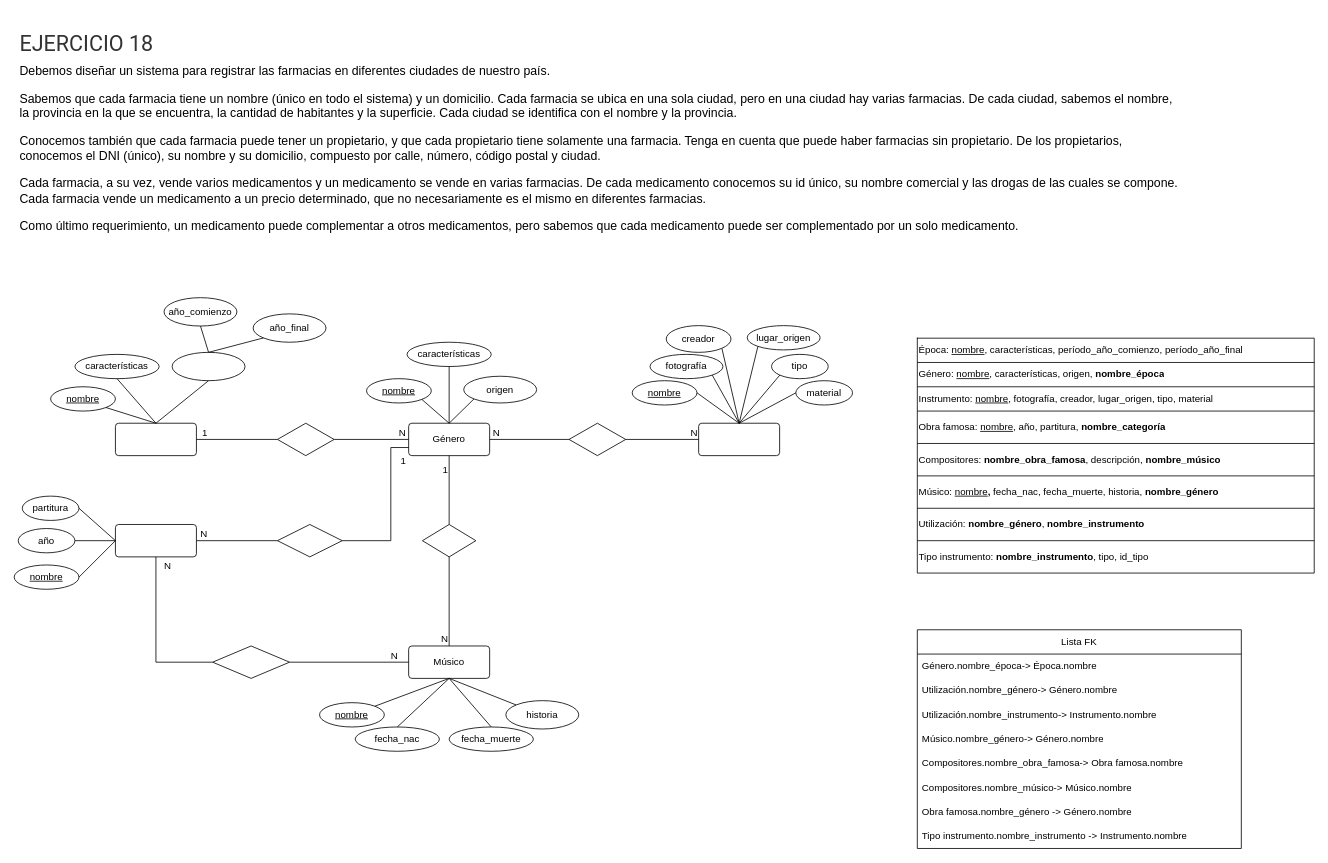
Image size: 1328x863. Some labels were removed from this diagram. The centre of each missing label's shape, as x and y in pixels:
compuesto: pixel 251 661
Instrumento: pixel 739 439
Obra Famosa: pixel 155 540
pertenece: pixel 309 540
período: pixel 208 366
posee: pixel 449 540
se usan: pixel 597 439
tiene: pixel 305 439
Época: pixel 155 439
